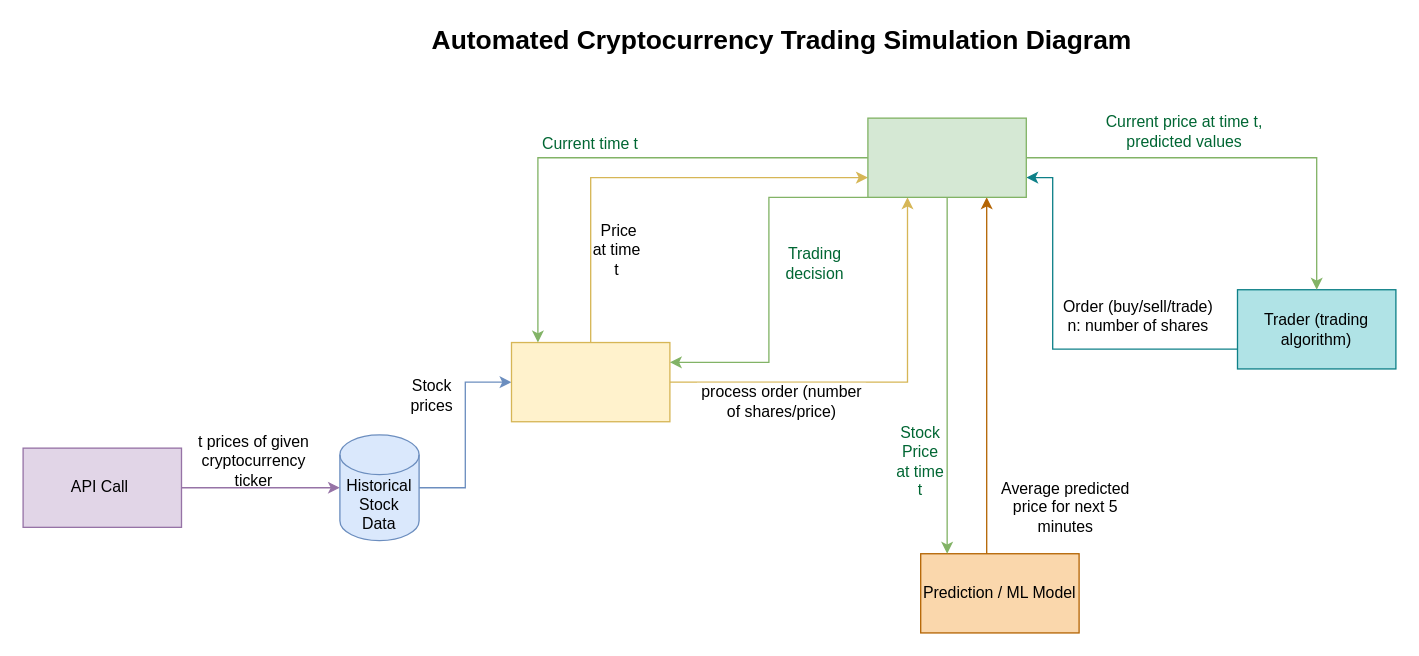
Some shapes in this 1419 by 656 pixel diagram are drawn without their labels. Here are the shapes that lost their labels. From the top down, the centre of each, then its label:
At (x=946, y=157): "Discrete Event Simulation over time t".
At (x=590, y=381): "Stock Exchange".
